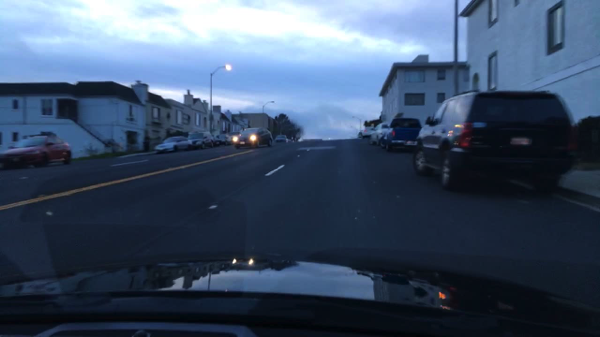car: (412, 88, 581, 195), (0, 133, 73, 169), (380, 117, 422, 152), (230, 127, 273, 150), (154, 135, 193, 153), (367, 122, 389, 147), (187, 132, 215, 149), (213, 134, 232, 146), (226, 131, 241, 144), (361, 126, 374, 139), (275, 134, 289, 144)
